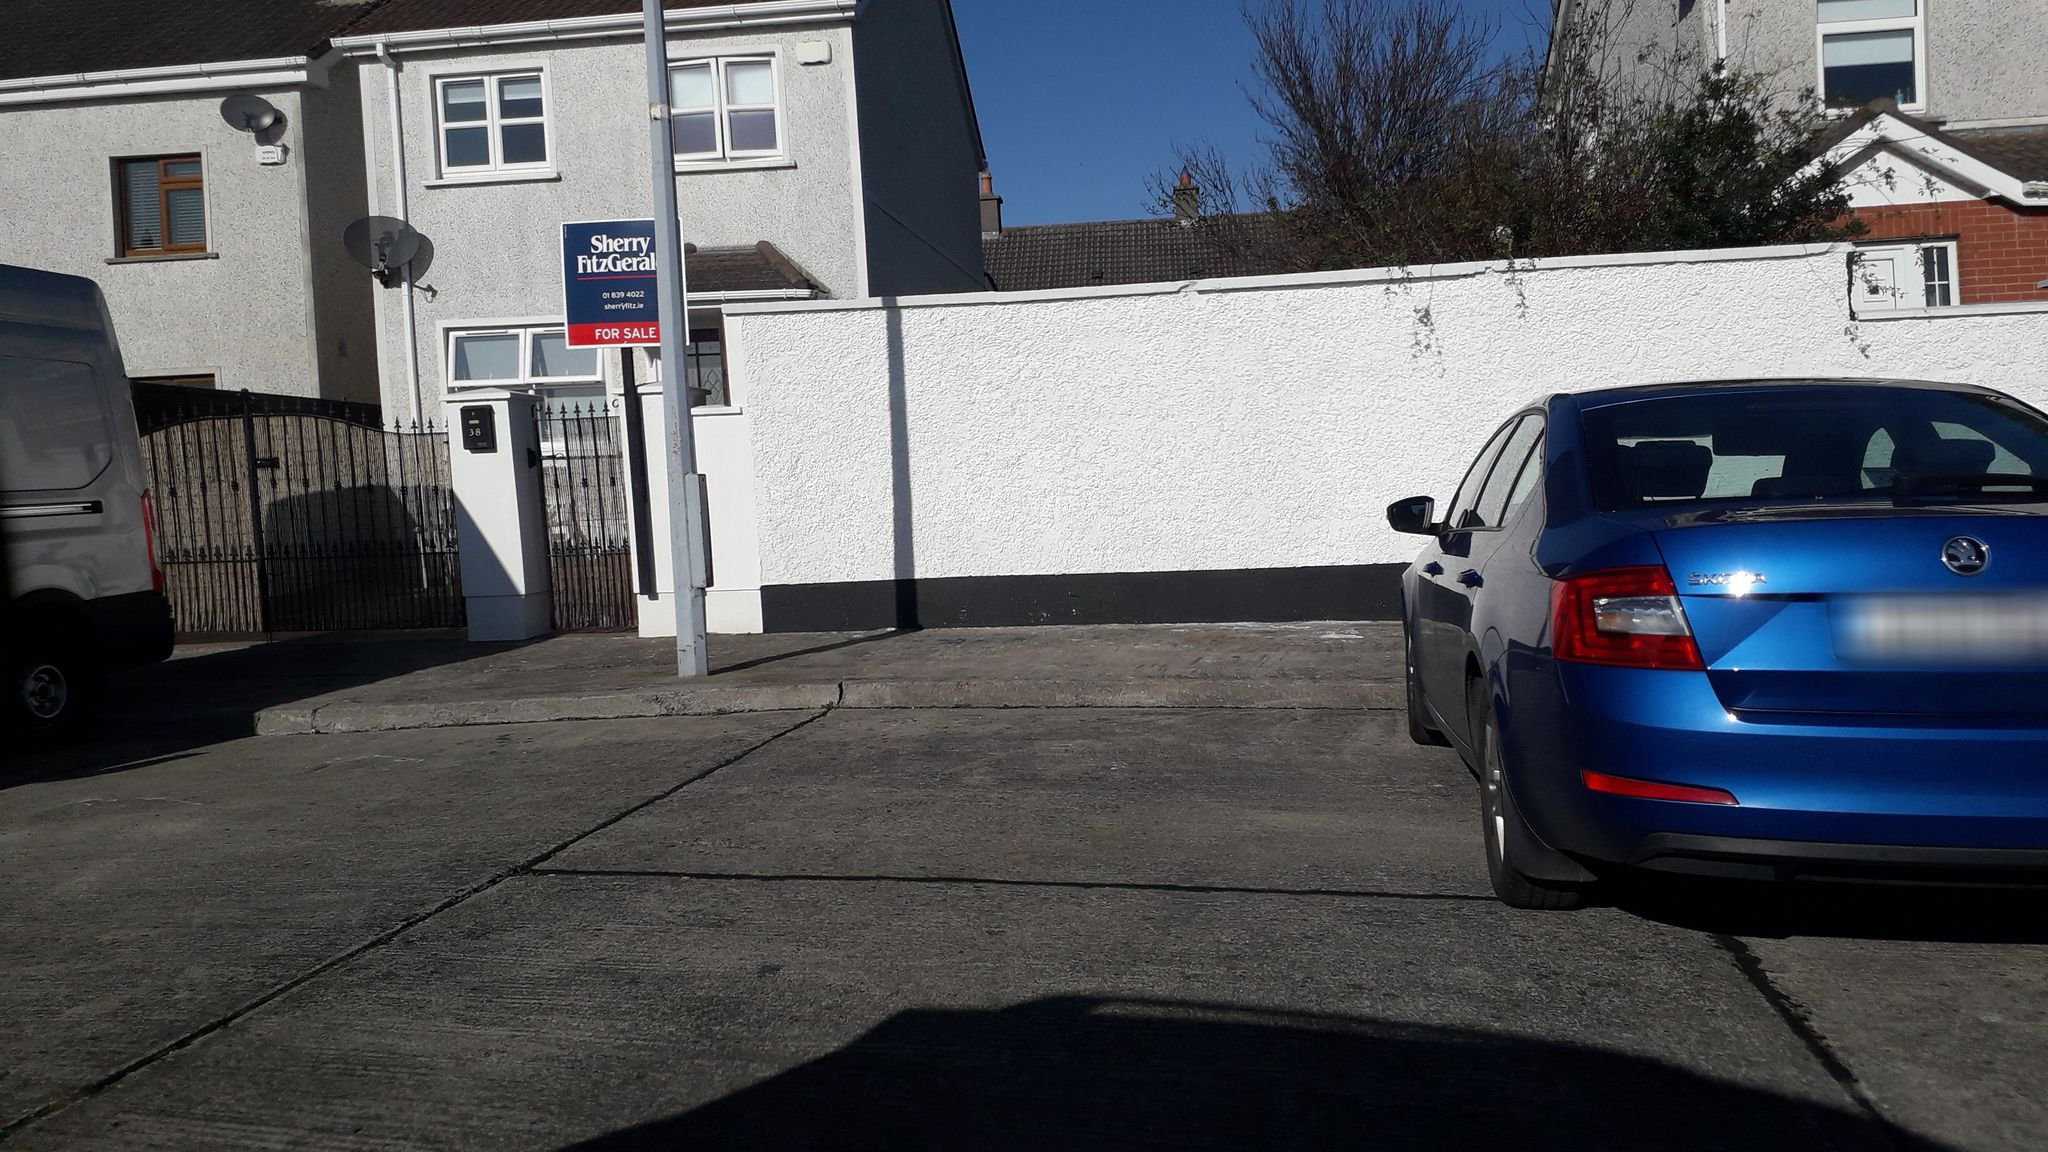property sign: (542, 208, 699, 353)
